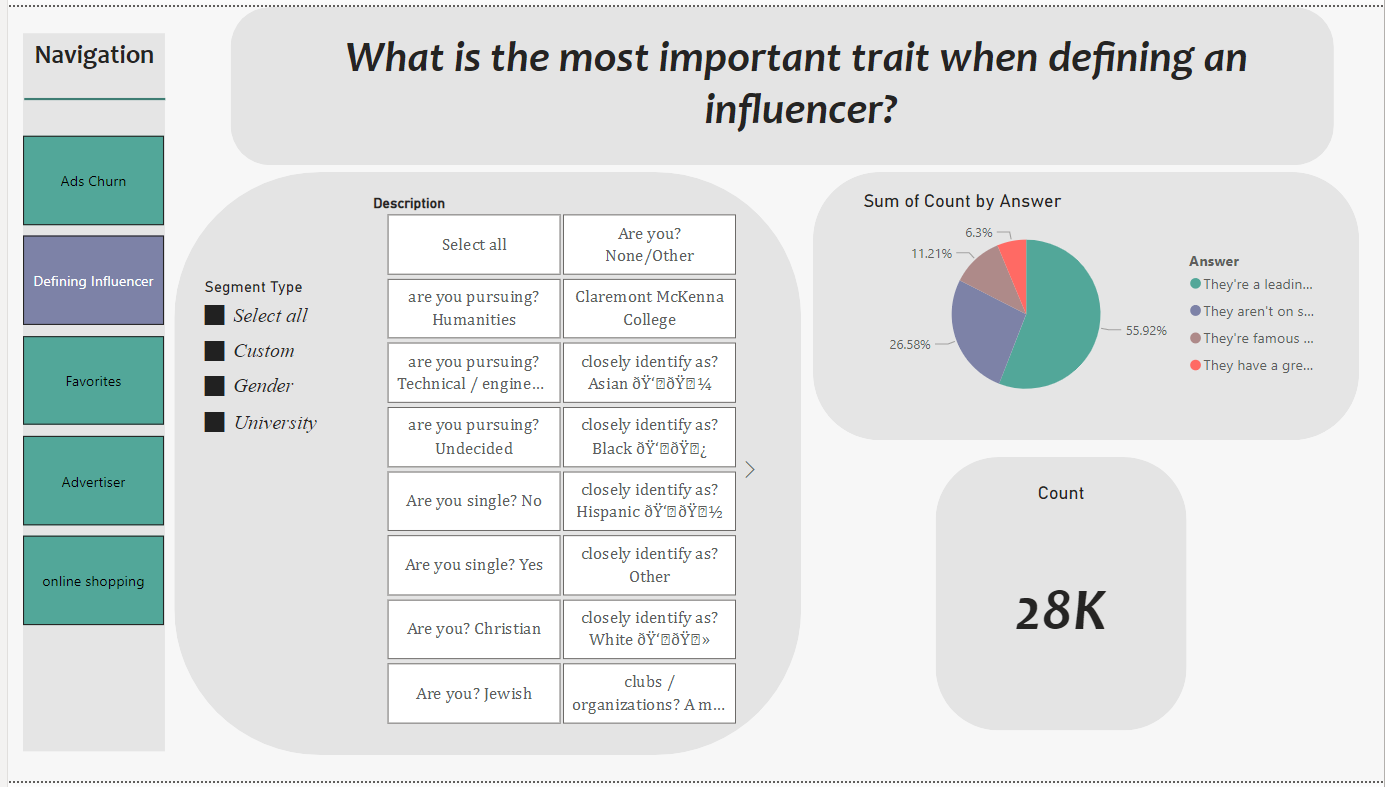

This screenshot's page, from the dashboard's own definition file:
{"tool":"powerbi","page":{"name":"Defining Influencer","canvas":[1280,720],"ordinal":1},"visuals":[{"type":"shape","box":[13.7,24.7,131.7,668.3],"z":0},{"type":"shape","box":[207.2,0,1026.4,146.8],"z":1000},{"type":"shape","box":[155.1,153.7,583.2,542],"z":2000},{"type":"shape","box":[862.8,418.6,233.7,254.7],"z":3000},{"type":"shape","box":[749.2,153.7,507.7,249.7],"z":4000},{"type":"card","fields":{"Values":["Min(defining_a_influencer.Question)"]},"box":[241.5,0,992.1,126.2],"z":5000},{"type":"card","title":"Count","fields":{"Values":["Sum(defining_a_influencer.Count)"]},"box":[880.2,441.9,198.8,208.1],"z":6000},{"type":"slicer","fields":{"Values":["defining_a_influencer.Segment Description"]},"box":[326.6,170.2,374.6,503.6],"z":7000},{"type":"pieChart","fields":{"Y":["Sum(defining_a_influencer.Count)"],"Category":["defining_a_influencer.Answer"]},"box":[790.7,169.8,443,212.8],"z":8000},{"type":"slicer","fields":{"Values":["defining_a_influencer.Segment Type"]},"box":[169.8,246.5,157,229.1],"z":9000},{"type":"textbox","box":[0,24.4,160.5,58.1],"z":11000},{"type":"shape","box":[15.1,74.4,131.4,22.1],"z":12000},{"type":"pageNavigator","box":[14,119.8,131.4,458.1],"z":12001}]}

Visuals, with their boxes in screenshot pixels (x1, y1, x2, y2), scaled from the page's 1280x720 canvas onto the 1385x787 screenshot:
shape: bbox=[15, 27, 157, 757]
shape: bbox=[224, 0, 1335, 160]
shape: bbox=[168, 168, 799, 760]
shape: bbox=[934, 458, 1186, 736]
shape: bbox=[811, 168, 1360, 441]
card - Min(defining_a_influencer.Question): bbox=[261, 0, 1335, 138]
"Count" card: bbox=[952, 483, 1168, 710]
slicer - defining_a_influencer.Segment Description: bbox=[353, 186, 759, 737]
pieChart - Sum(defining_a_influencer.Count) x defining_a_influencer.Answer: bbox=[856, 186, 1335, 418]
slicer - defining_a_influencer.Segment Type: bbox=[184, 269, 354, 520]
textbox: bbox=[0, 27, 174, 90]
shape: bbox=[16, 81, 159, 105]
pageNavigator: bbox=[15, 131, 157, 632]
